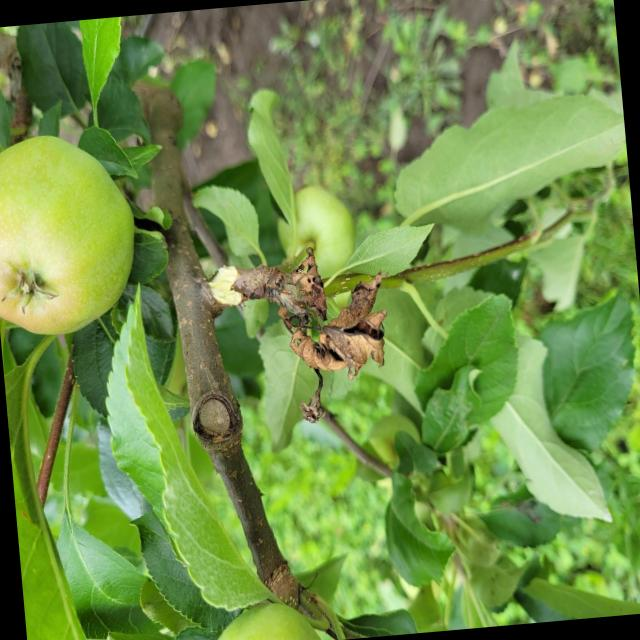-FireBlight-: (270, 250, 393, 430)
